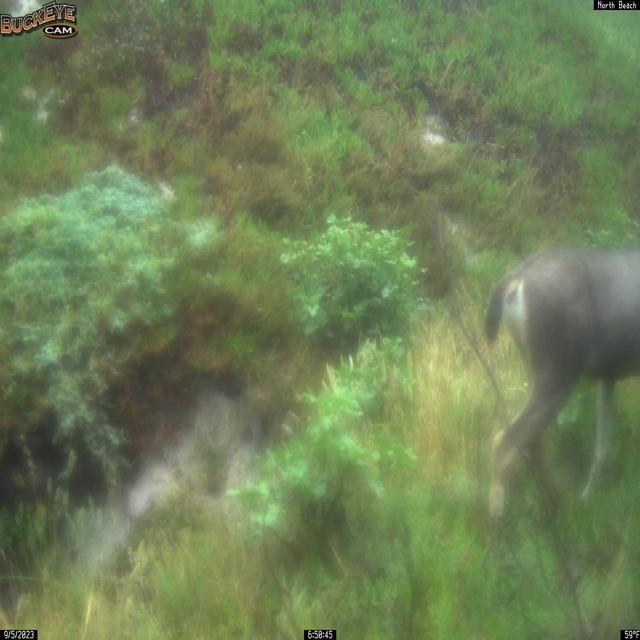deer: (484, 242, 640, 531)
